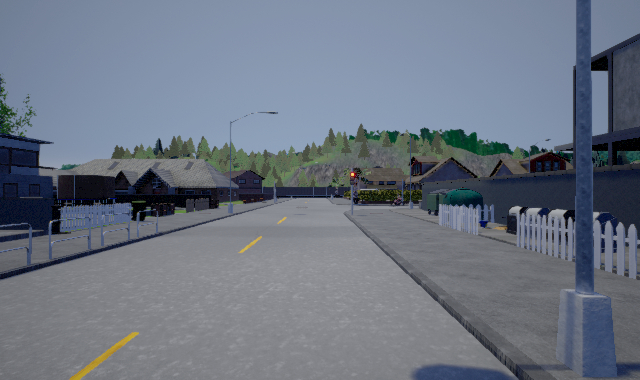traffic_light: (350, 171, 355, 186)
